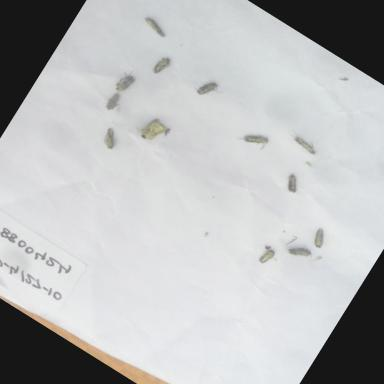pbw: (188, 72, 226, 108), (234, 122, 274, 156), (134, 113, 170, 150), (282, 128, 320, 161), (282, 236, 320, 269), (108, 63, 140, 98), (252, 238, 284, 272), (146, 48, 176, 81), (137, 13, 171, 41), (95, 122, 123, 152), (98, 87, 124, 115), (306, 225, 332, 252), (280, 171, 306, 197)
